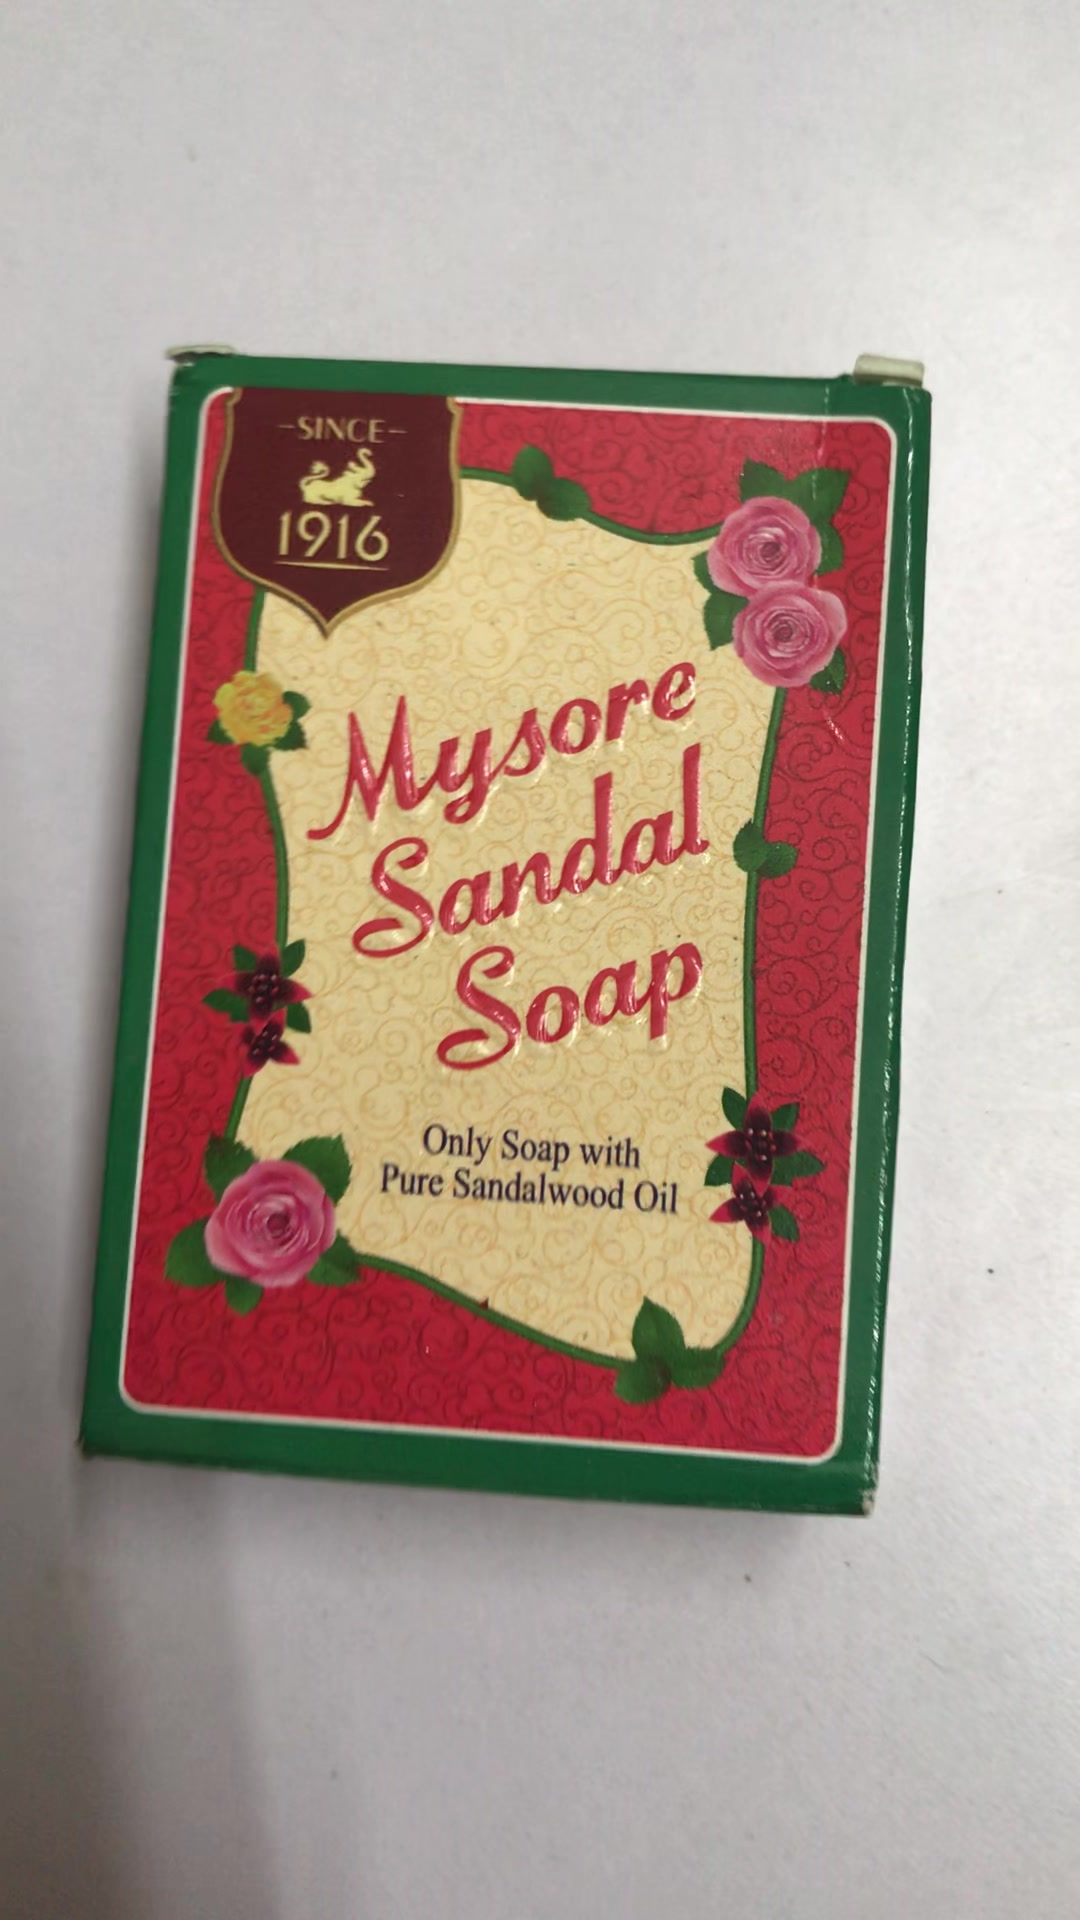mysore sandal soap: (84, 349, 930, 1531)
